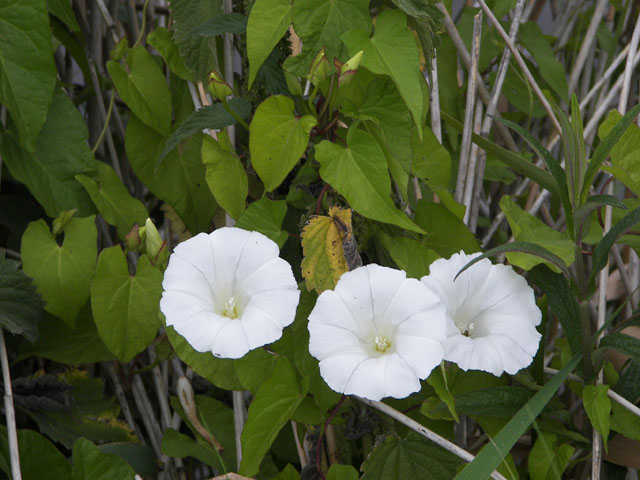haagwinde: (23, 204, 167, 375), (308, 255, 452, 409), (150, 222, 302, 358), (419, 243, 546, 395), (316, 93, 447, 234), (100, 32, 196, 219), (191, 94, 318, 216)
